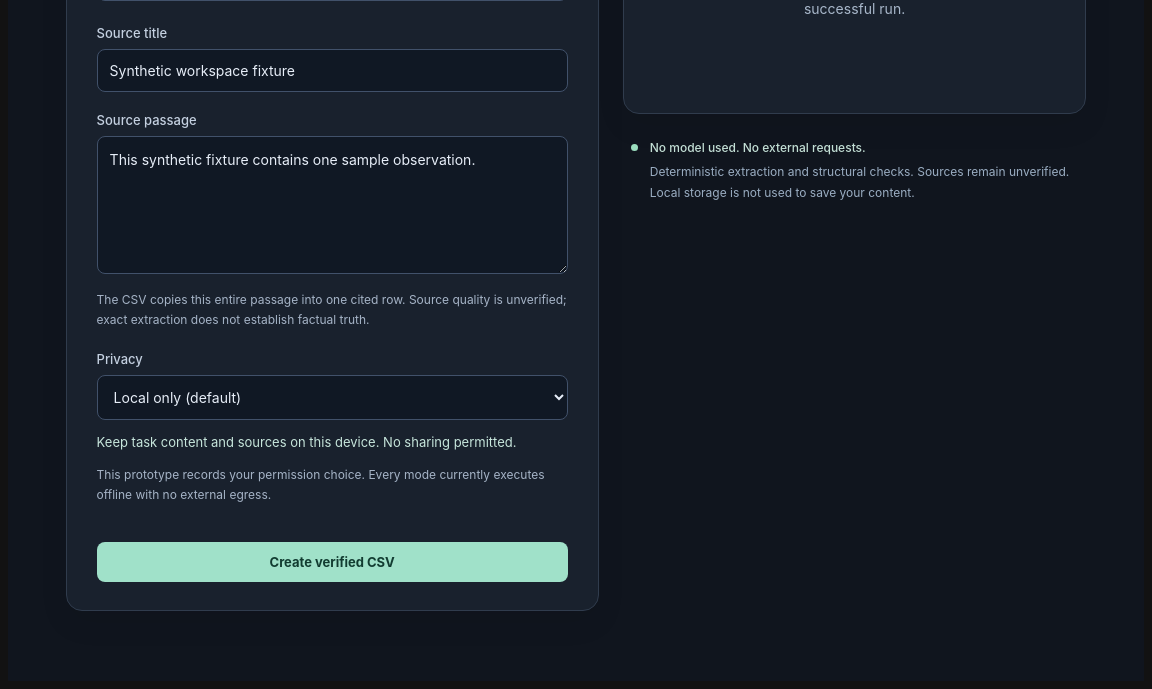
Test: Workspace › explains progressive privacy without suggesting external execution is available
(page scrolled)
Select "Open sharing" in the dropdown labelled "Privacy" at coordinates (332, 397), box [97,375,568,420]
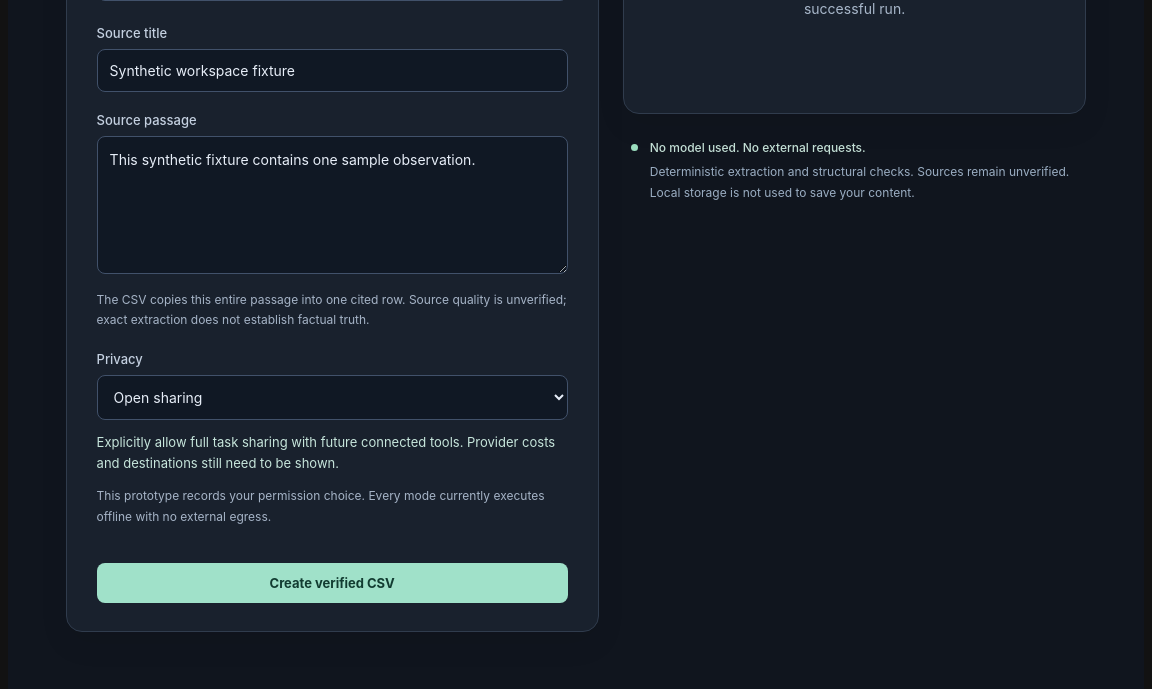
expect the heading "No model used. No external requests." is shown: met, box [650,140,866,155]
expect the text "Explicitly allow full task sharing" is shown: met, box [97,434,555,471]
